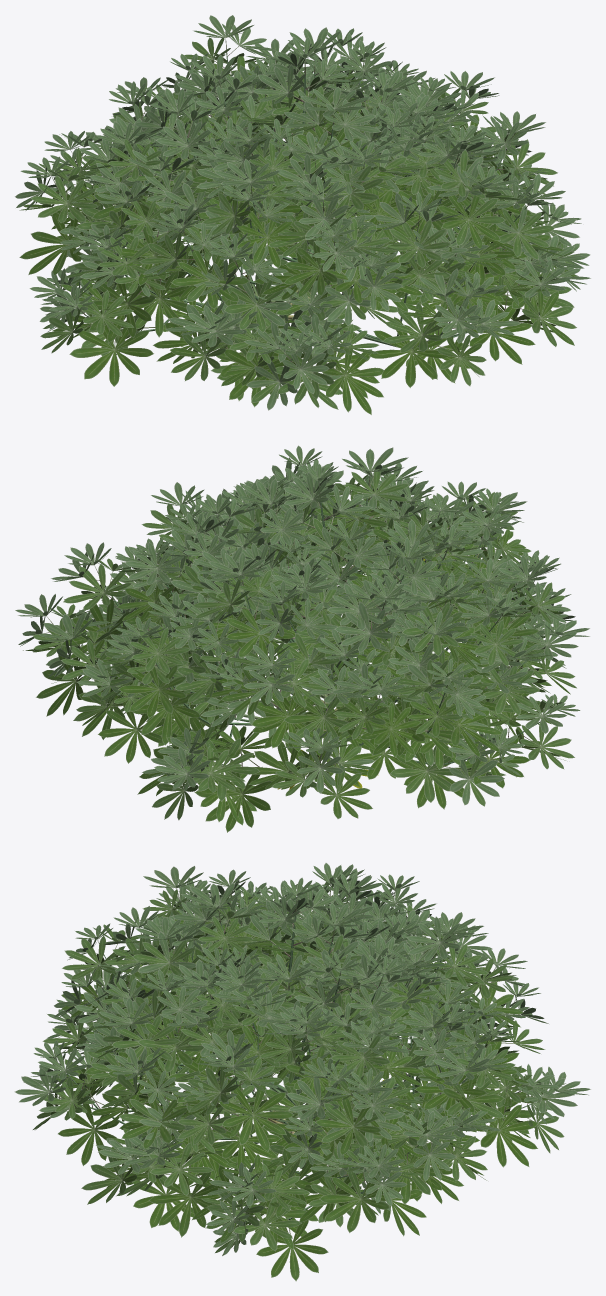
Rendered from Lupinus arboreus HD_Standard no flower mat 0_LOD2.fbx.
3 renders of one model, top to bottom at view 1: azimuth 30°, elevation 25°; view 2: azimuth 150°, elevation 25°; view 3: azimuth 270°, elevation 25°, orthographic. The views are drawn at different scales.
Visible parts, largest first — view 1: Lupinus_arboreus_HD; view 2: Lupinus_arboreus_HD; view 3: Lupinus_arboreus_HD.
Part boxes in pixels (left/top/right/bottom): Lupinus_arboreus_HD: left=15, top=15, right=590, bottom=414; Lupinus_arboreus_HD: left=15, top=445, right=589, bottom=832; Lupinus_arboreus_HD: left=14, top=863, right=590, bottom=1281.
Size of the model in its own units: 1.27 by 0.6988 by 1.26.
13 materials, 13 textured.
